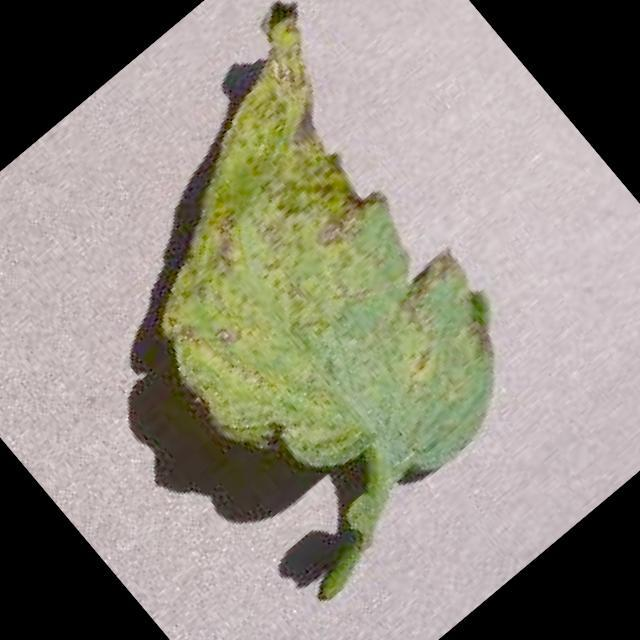Tomato Septoria spot leaf: (25, 0, 586, 569)
